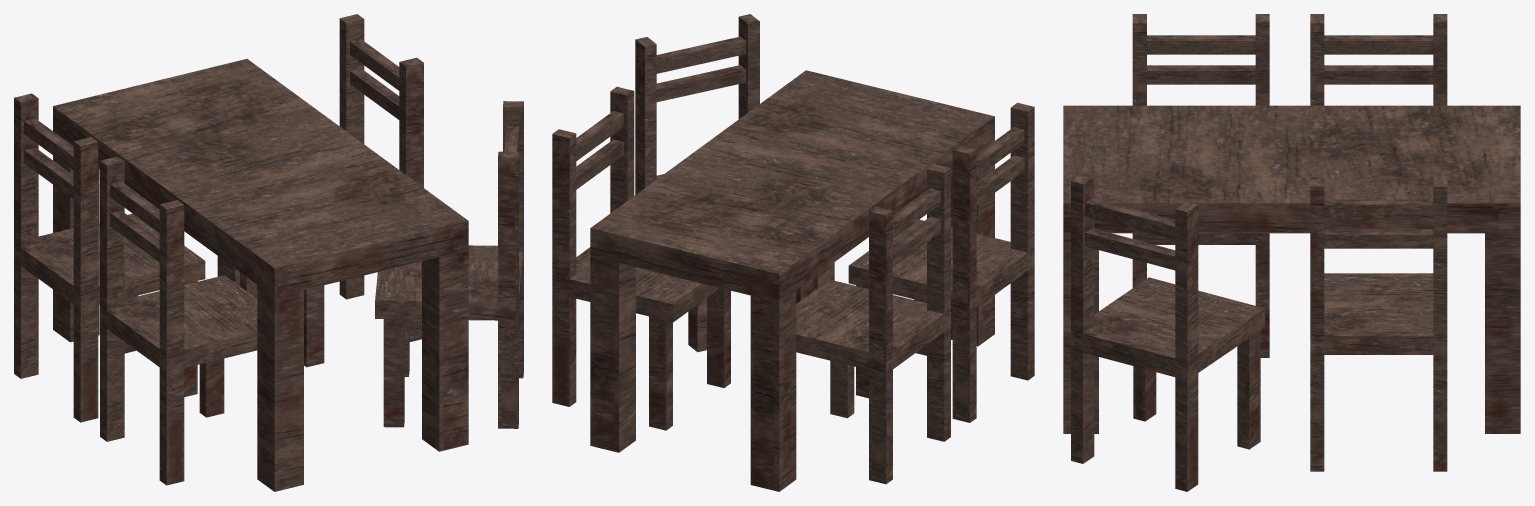
Rendered from mesaecadeira.glb.
3 views of the same model, side by side, from view 1: azimuth 30°, elevation 25°; view 2: azimuth 150°, elevation 25°; view 3: azimuth 270°, elevation 25° (orthographic). The views are drawn at different scales.
Parts seen in each view (by area): view 1: Cube; view 2: Cube; view 3: Cube.
Part boxes in pixels (x1,y1,x2,y2): Cube: (14,14,523,491); Cube: (552,14,1034,491); Cube: (1063,14,1520,491).
Size of the model in its own units: 2 by 1.38 by 2.
Materials: 1 (1 with a texture image).
